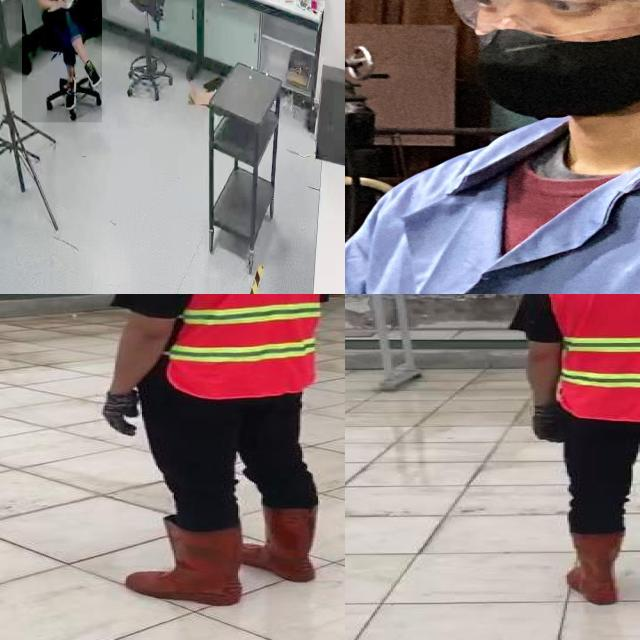boots: (130, 520, 245, 608), (234, 503, 322, 583), (569, 531, 633, 609)
face_nomask: (428, 0, 640, 113)
glasses: (438, 0, 640, 36)
hand_glove: (99, 391, 142, 438), (533, 401, 576, 446)
hand_noglove: (55, 0, 67, 8)
person: (345, 0, 640, 294), (90, 294, 344, 612), (515, 294, 640, 613), (21, 0, 102, 123)
shoes: (60, 74, 80, 114), (82, 56, 102, 90)
vest: (149, 294, 337, 401), (553, 294, 640, 417)
